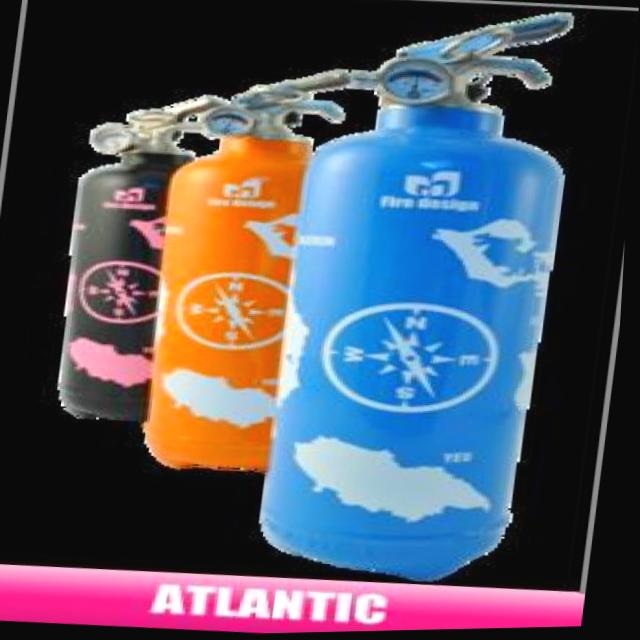FireExtinguisher: (249, 0, 596, 593), (127, 53, 374, 485), (44, 86, 251, 430)
